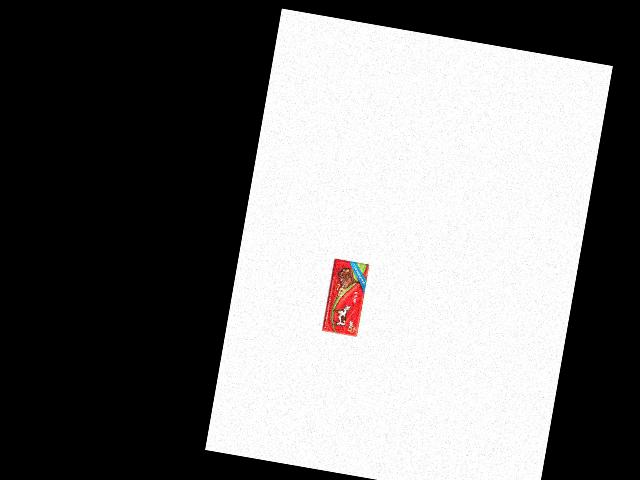chocolate: (322, 259, 369, 340)
